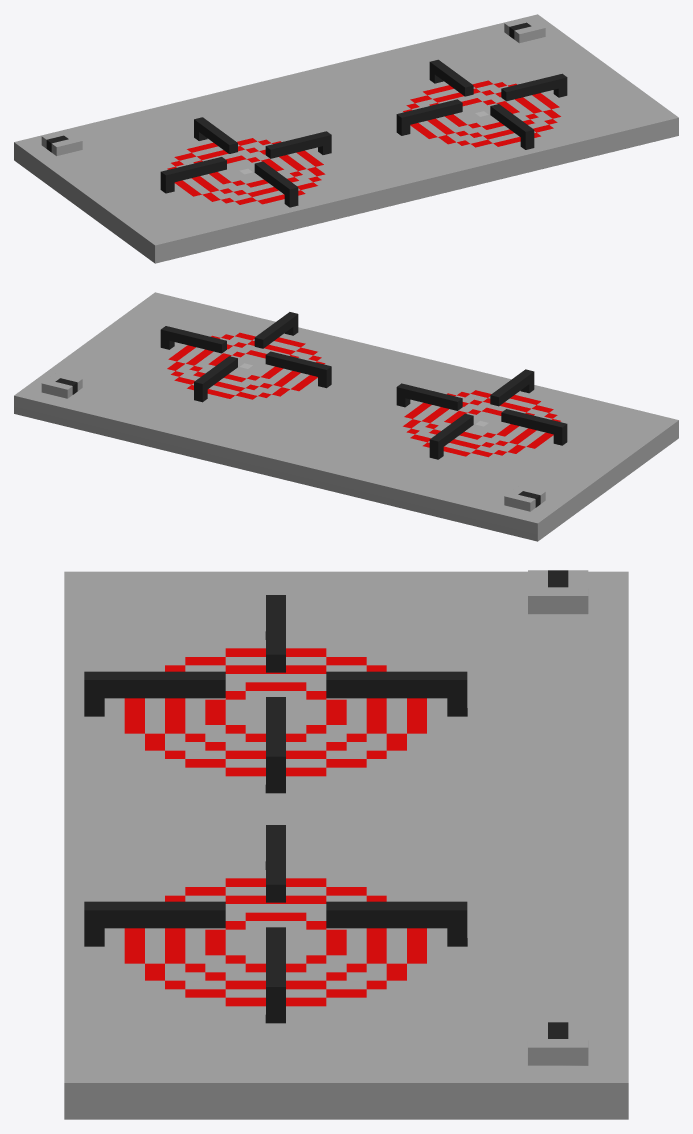
File: range.fbx
3 renders of one model, top to bottom at view 1: azimuth 30°, elevation 25°; view 2: azimuth 150°, elevation 25°; view 3: azimuth 270°, elevation 25°, orthographic. The views are drawn at different scales.
Parts seen in each view (by area): view 1: burner3:Mesh; view 2: burner3:Mesh; view 3: burner3:Mesh.
Boxes of the visible parts, x1=… form: burner3:Mesh: x1=14, y1=14, x2=678, y2=263; burner3:Mesh: x1=14, y1=292, x2=678, y2=541; burner3:Mesh: x1=64, y1=570, x2=628, y2=1119.
Size of the model in its own units: 6 by 0.4 by 2.8.
